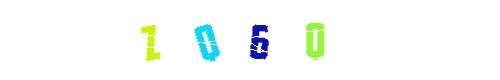6: (210, 0, 290, 80)
Q: (210, 0, 290, 80), (219, 0, 299, 80)
Z: (167, 0, 247, 80)
